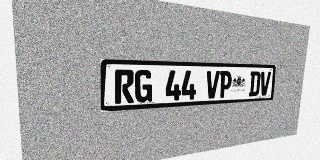4: (165, 70, 182, 101), (181, 70, 197, 100)
D: (248, 71, 261, 96)
G: (134, 70, 153, 103)
P: (218, 71, 232, 98)
R: (115, 69, 134, 104)
V: (205, 71, 220, 99), (259, 71, 271, 96)
